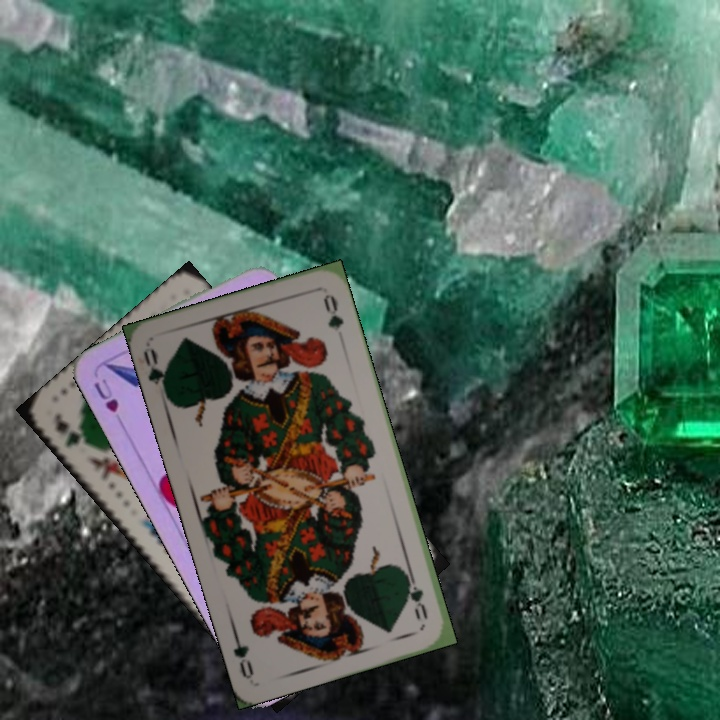GK: (50, 408, 93, 451)
GO: (139, 344, 171, 401), (400, 567, 430, 623)
HU: (90, 374, 121, 415)
